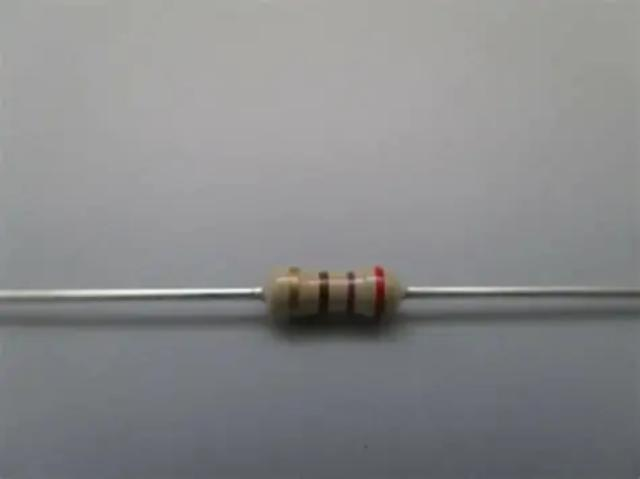brown: (318, 271, 330, 312), (346, 271, 357, 314)
gold: (287, 269, 302, 325)
red: (372, 268, 386, 317)
resistor: (258, 258, 420, 342)
